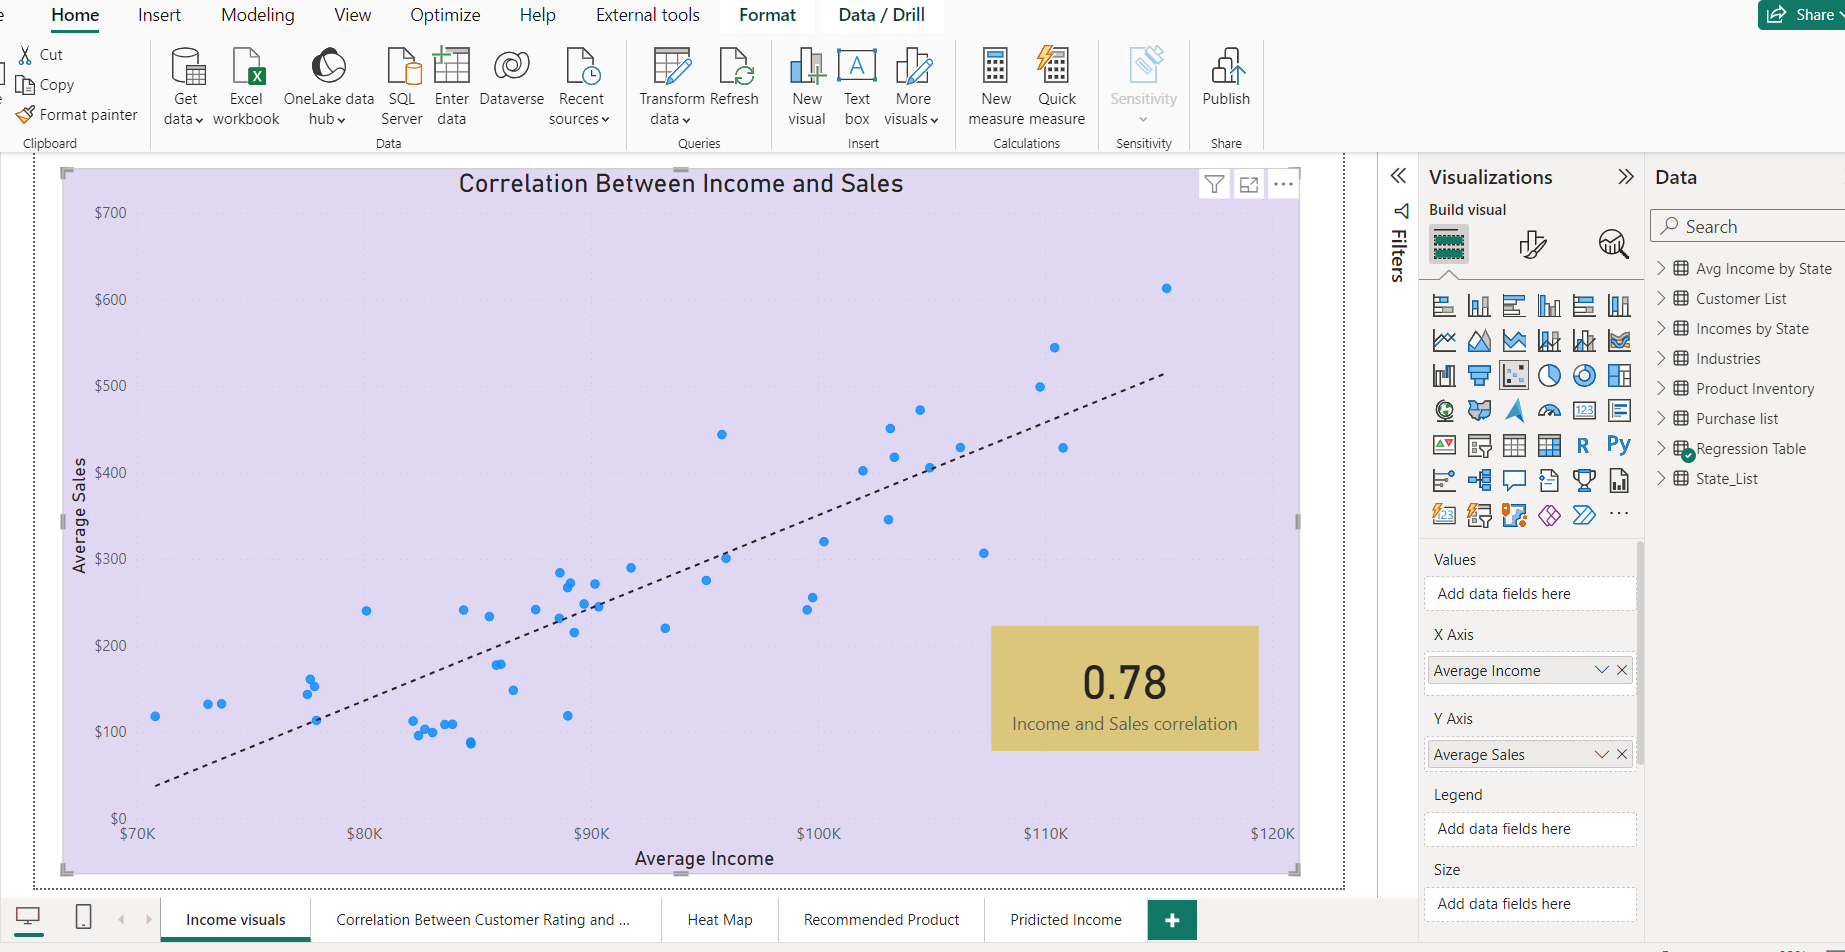

The dashboard page shown, as its layout file describes it:
{"tool":"powerbi","page":{"name":"Income visuals","canvas":[1280,720],"ordinal":0},"visuals":[{"type":"scatterChart","title":"Correlation Between Income and Sales","fields":{"X":["Regression Table.X"],"Y":["Regression Table.Y"]},"box":[26.9,15.9,1210.2,690.7],"z":1000},{"type":"card","fields":{"Values":["Regression Table.X and Y correlation for Y"]},"box":[935.1,463.3,261.6,122.2],"z":4000}]}

Visuals, with their boxes on the page's 1280x720 design canvas (x1, y1, x2, y2). These are canvas units, not pixel positions in the 1845x952 screenshot, which may show the page scaled, cropped or inside an application window:
"Correlation Between Income and Sales" scatterChart: [27, 16, 1237, 707]
card - Regression Table.X and Y correlation for Y: [935, 463, 1197, 586]
